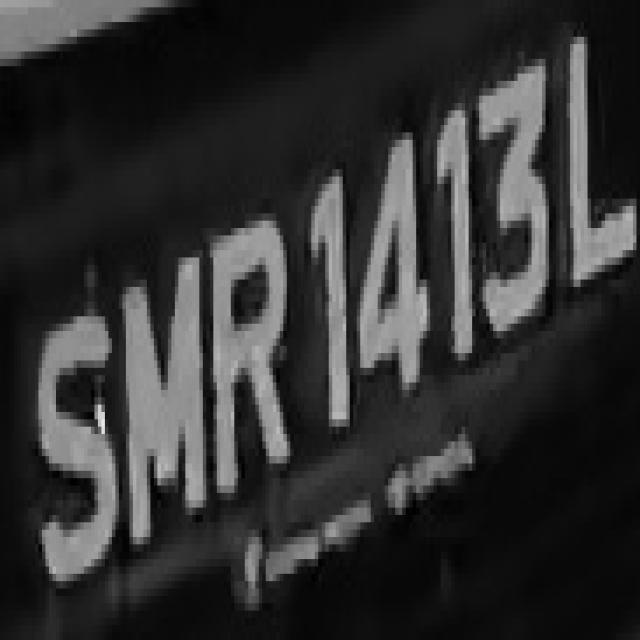1: (304, 132, 364, 471), (427, 81, 482, 390)
3: (472, 44, 546, 368)
4: (350, 88, 430, 420)
L: (560, 15, 636, 294)
M: (115, 235, 214, 559)
R: (200, 184, 290, 537)
S: (24, 279, 119, 596)
